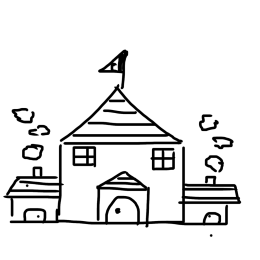closed_window: (145, 146, 179, 172), (69, 146, 100, 170)
door: (91, 168, 154, 232)
roof: (53, 81, 186, 150)
smoking_chimney: (9, 98, 55, 179), (195, 101, 237, 187)
wall: (55, 136, 189, 227)
